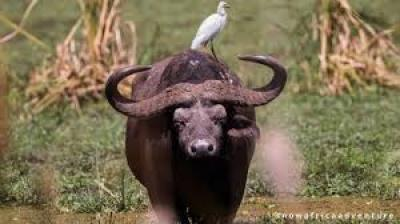buffalo: (105, 1, 286, 223)
